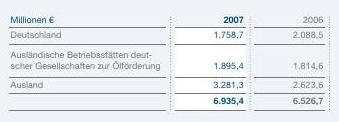table: (0, 0, 339, 122)
